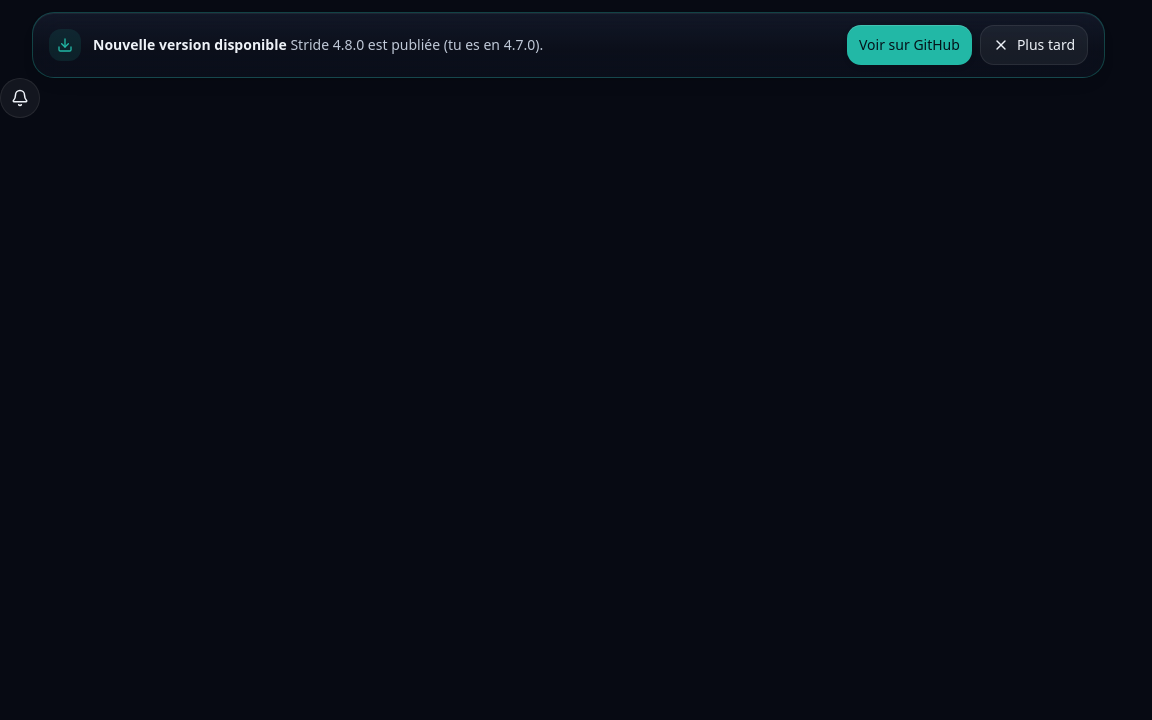
Test case: UpdateBanner (nouvelle version) › lands in the notification centre as a localized update entry
Later steps or results of the test are not shown.
Click the button named "Notifications" at [20, 98], box x1=0 y1=78 x2=40 y2=118
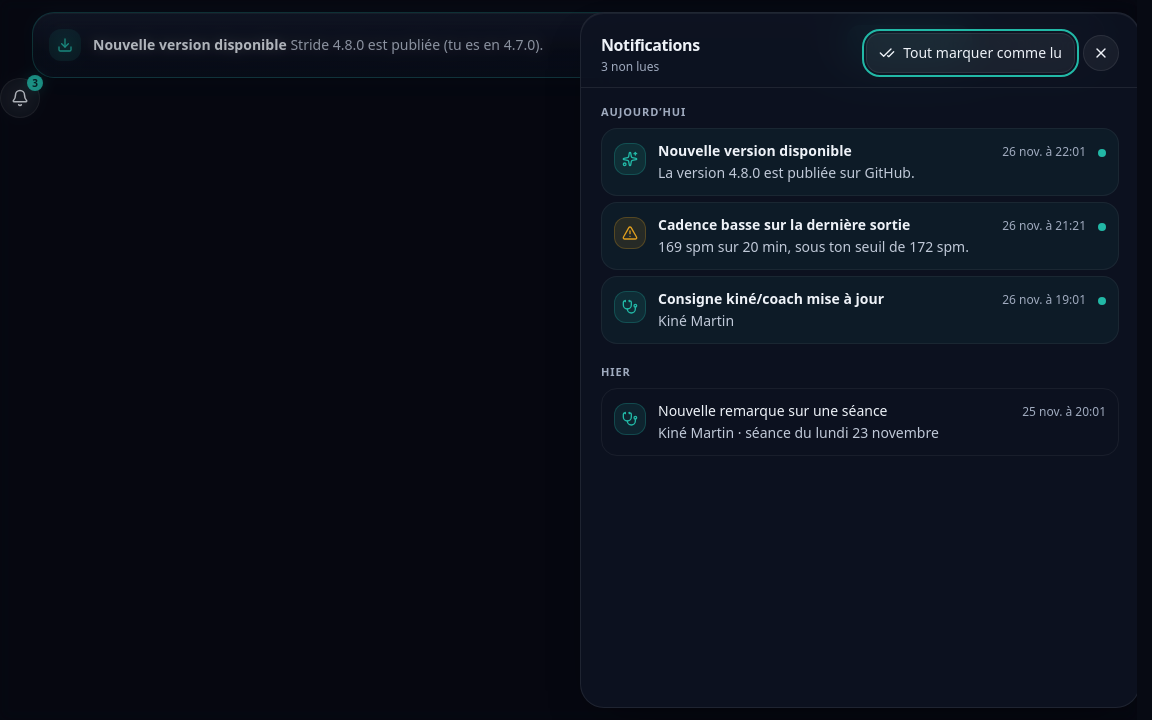
Expected: the text "Nouvelle version disponible" is shown, x1=93 y1=35 x2=287 y2=54
Result: the text "La version 4.8.0 est publiée sur GitHub." is shown at x1=658 y1=163 x2=915 y2=182
